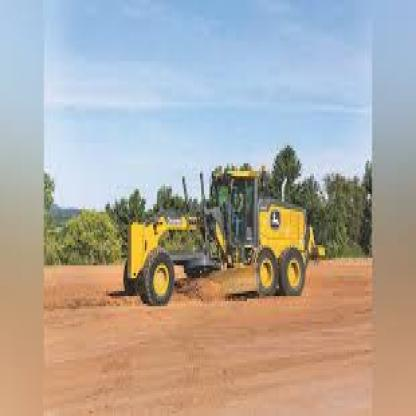bull_dozer/loader/grader: (117, 161, 330, 314)
